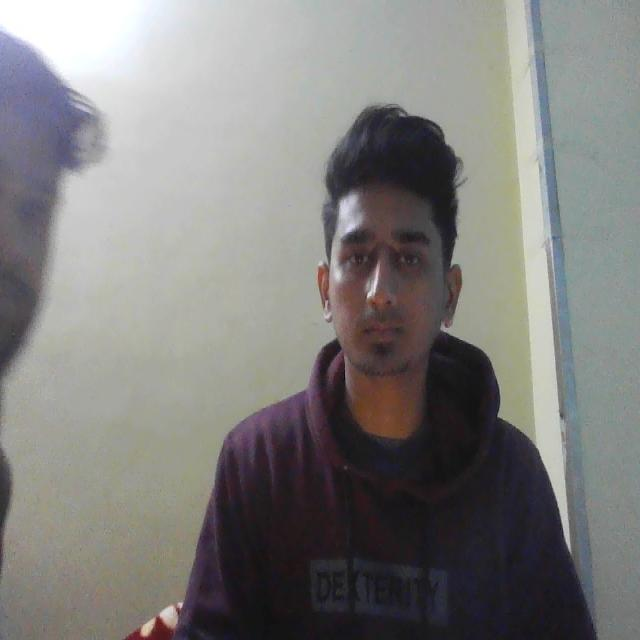real: (319, 121, 469, 404)
